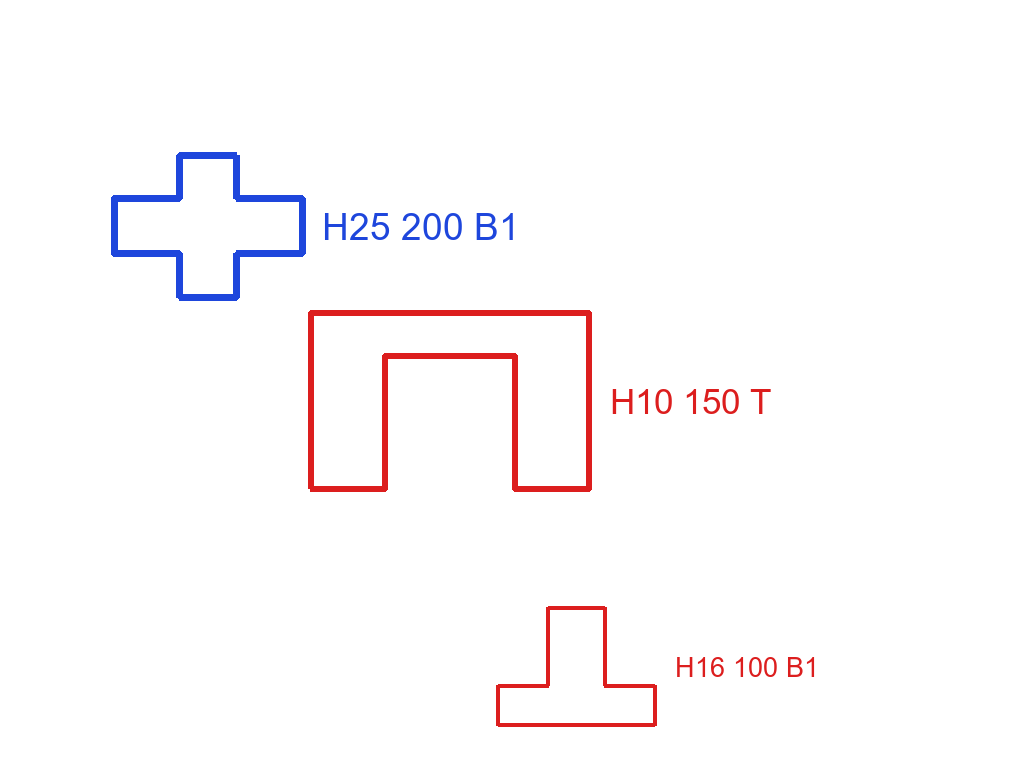shape: (305, 309, 595, 494), (109, 150, 308, 303), (495, 604, 659, 730)
text: (320, 211, 522, 242), (608, 387, 773, 416), (673, 655, 821, 679)
